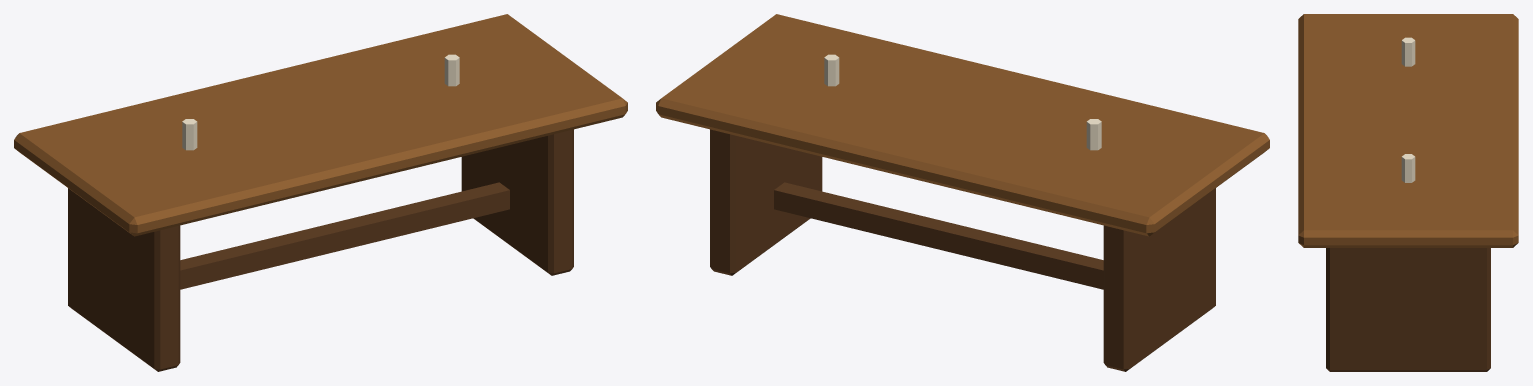
File: PR_Furniture_MasaUzun.fbx
3 views of the same model, side by side, from view 1: azimuth 30°, elevation 25°; view 2: azimuth 150°, elevation 25°; view 3: azimuth 270°, elevation 25° (orthographic). The views are drawn at different scales.
Visible parts, largest first — view 1: PR_Furniture_MasaUzun; view 2: PR_Furniture_MasaUzun; view 3: PR_Furniture_MasaUzun.
Part boxes in pixels (bbox=[...]): PR_Furniture_MasaUzun: bbox=[14, 14, 627, 371]; PR_Furniture_MasaUzun: bbox=[656, 14, 1269, 371]; PR_Furniture_MasaUzun: bbox=[1298, 14, 1518, 371].
Bounding box in the file's own units: 1.9 × 0.73 × 0.8.
